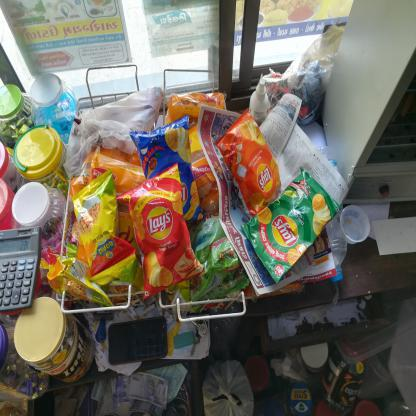chile_limon: (248, 168, 334, 273)
hot_and_sweet: (216, 113, 285, 204)
indian_magic_masala: (133, 132, 197, 217)
tangy_tomato: (131, 175, 203, 295)
